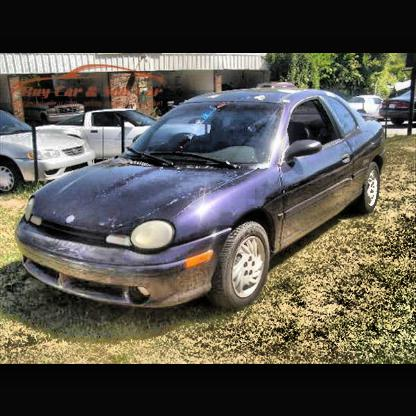Plymouth Neon Coupe 1999: (19, 92, 388, 313)
